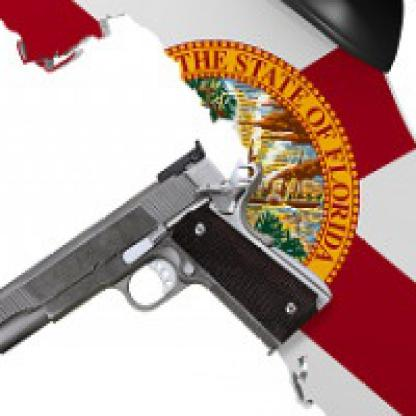gun: (0, 134, 358, 372)
